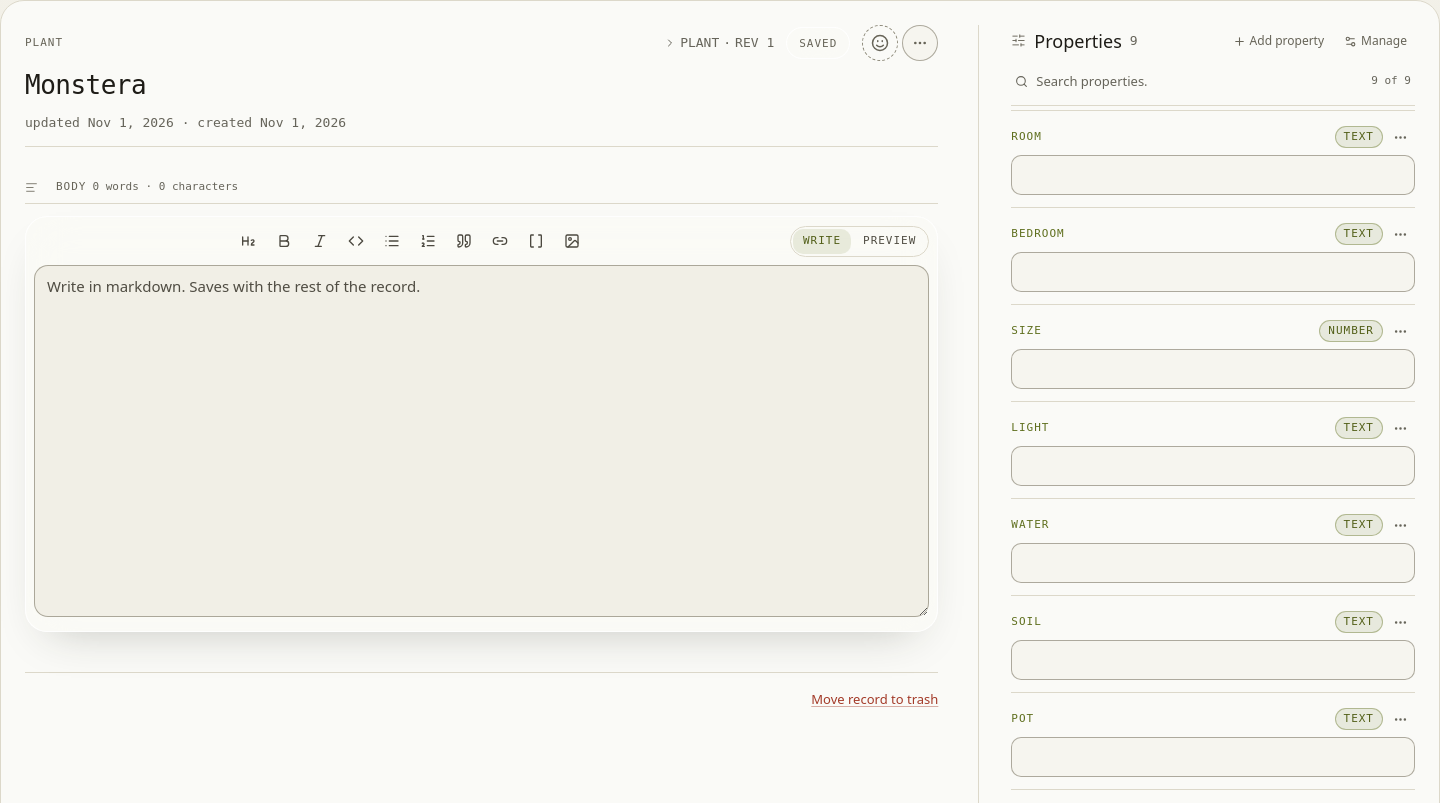
Test: ObjectPanel property surface › searches the record's properties when the type carries more than eight
Expected: the text "9 of 9" is shown, 1371,72 -> 1411,90
Expected: the element named "Room — key room" is shown, 1011,111 -> 1415,208
In the search field labelled "Search properties": (1200, 81) 1036,65 -> 1363,97, type "bed"
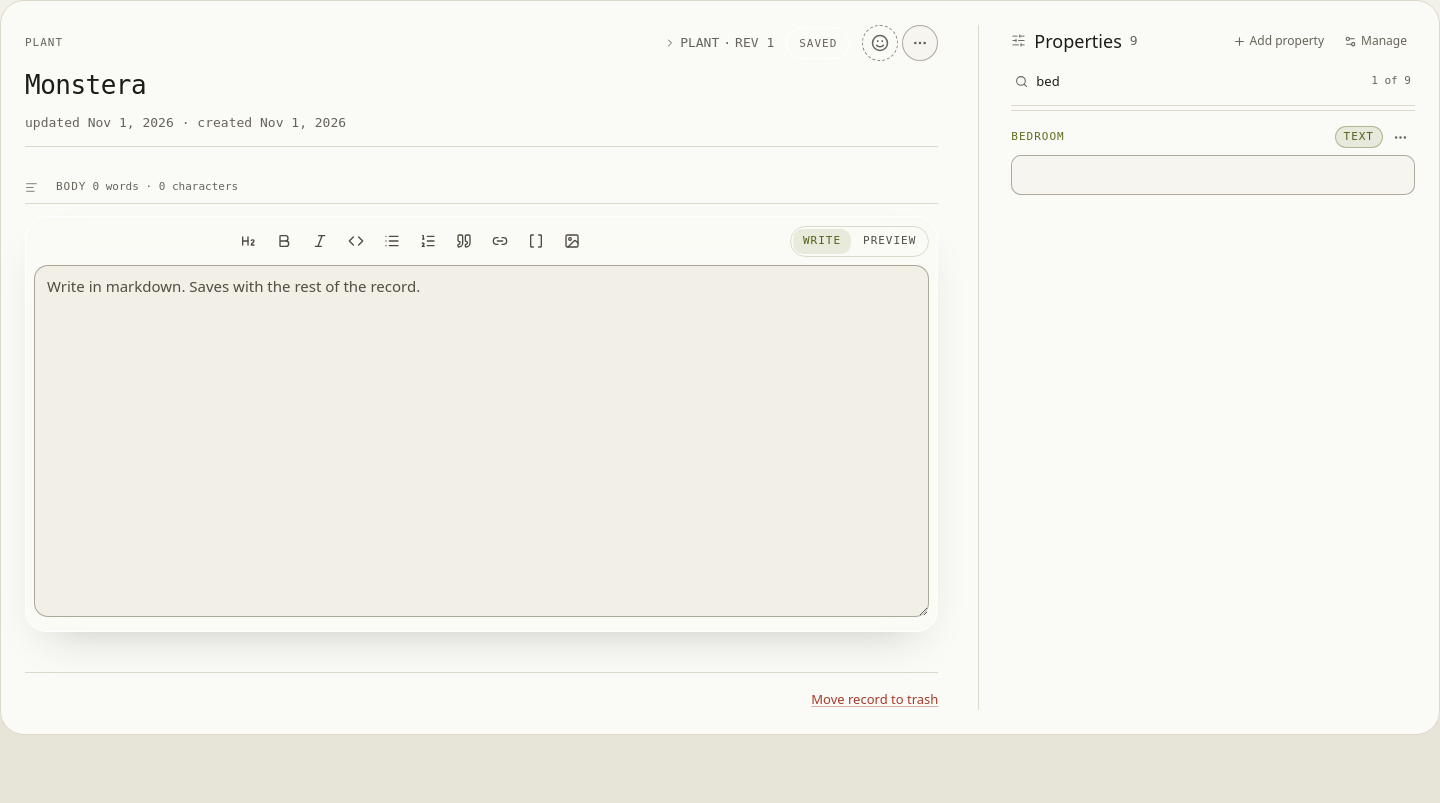
Expected: the element named "Bedroom — key bedroom" is shown, 1011,111 -> 1415,207
Now the text "1 of 9" is shown, box 1371,72 -> 1411,90
Now the element "Room — key room" is gone
Replace the text in the search field named "Search properties" with "zzz": (1200, 81) 1036,65 -> 1363,97
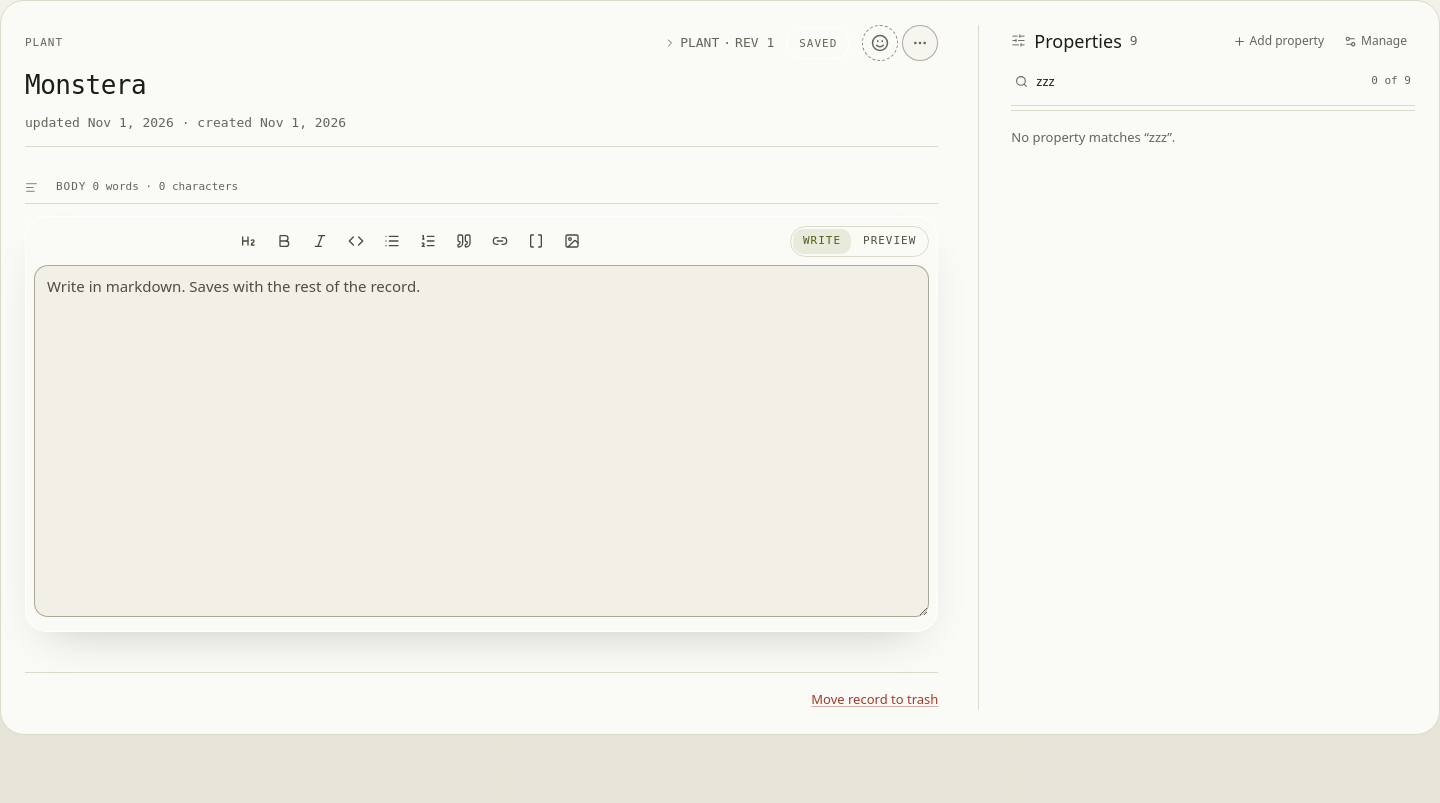
Now the text "0 of 9" is shown, box 1371,72 -> 1411,90
Now the text "No property matches “zzz”." is shown, box 1011,128 -> 1175,146
